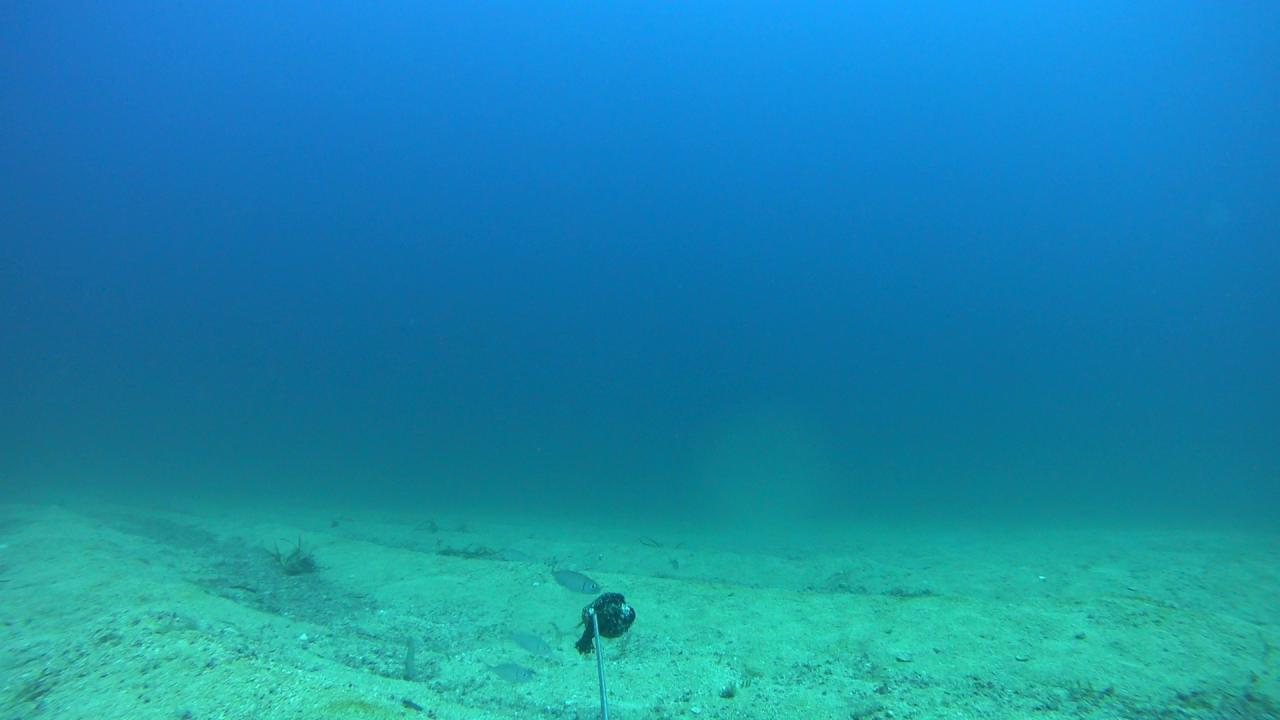pagellus: (546, 566, 602, 596), (479, 657, 533, 685), (505, 628, 549, 656)
